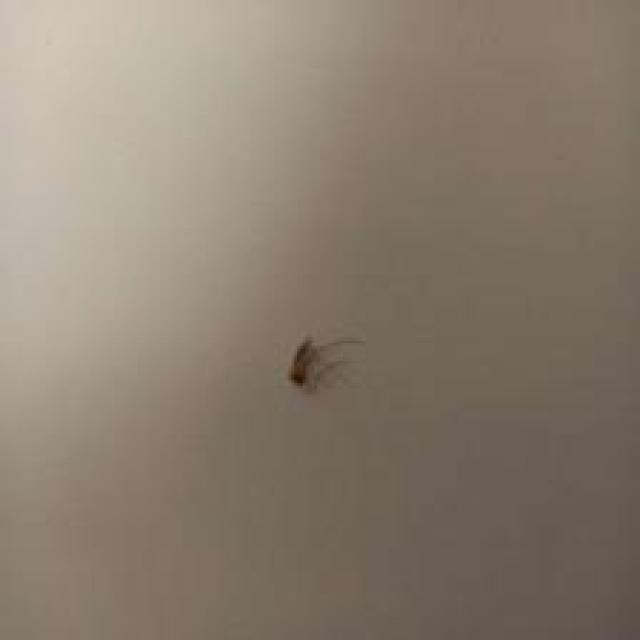Culex: (287, 334, 364, 394)
